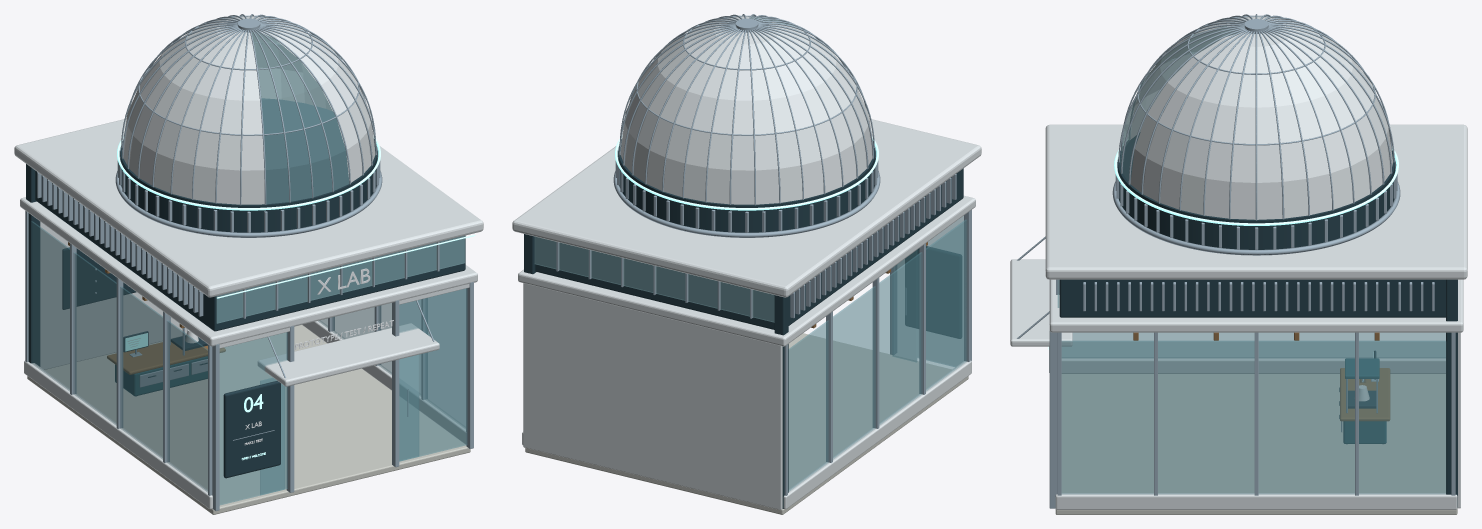
The model's file is lab-refined.glb.
3 renders of one model, left to right at view 1: azimuth 30°, elevation 25°; view 2: azimuth 150°, elevation 25°; view 3: azimuth 270°, elevation 25°, orthographic. The views are drawn at different scales.
Visible parts, largest first — view 1: Porcelain | satin ceramic, Glazing | low iron blue, Structure | midnight anodised, Aluminium | brushed edges, Floor | warm limestone, Glazing | fritted upper panels, Light | ice blue, Oak | reading furniture, Equipment | deep teal, Lettering | porcelain; view 2: Porcelain | satin ceramic, Glazing | low iron blue, Aluminium | brushed edges, Structure | midnight anodised, Floor | warm limestone, Glazing | fritted upper panels, Light | ice blue; view 3: Porcelain | satin ceramic, Glazing | low iron blue, Floor | warm limestone, Aluminium | brushed edges, Structure | midnight anodised, Glazing | fritted upper panels, Oak | reading furniture, Equipment | deep teal, Light | ice blue.
Boxes of the visible parts, left/top/right/bottom form: Porcelain | satin ceramic: left=14, top=16, right=483, bottom=509; Glazing | low iron blue: left=31, top=221, right=467, bottom=505; Structure | midnight anodised: left=26, top=98, right=465, bottom=478; Aluminium | brushed edges: left=25, top=14, right=473, bottom=510; Floor | warm limestone: left=27, top=325, right=470, bottom=514; Glazing | fritted upper panels: left=216, top=31, right=465, bottom=323; Light | ice blue: left=117, top=135, right=475, bottom=460; Oak | reading furniture: left=68, top=242, right=225, bottom=374; Equipment | deep teal: left=115, top=356, right=207, bottom=396; Lettering | porcelain: left=128, top=268, right=393, bottom=445; Porcelain | satin ceramic: left=512, top=16, right=981, bottom=509; Glazing | low iron blue: left=788, top=216, right=967, bottom=491; Aluminium | brushed edges: left=556, top=14, right=971, bottom=495; Structure | midnight anodised: left=524, top=139, right=963, bottom=508; Floor | warm limestone: left=525, top=333, right=968, bottom=514; Glazing | fritted upper panels: left=534, top=16, right=795, bottom=322; Light | ice blue: left=615, top=135, right=878, bottom=210; Porcelain | satin ceramic: left=1010, top=16, right=1467, bottom=509; Glazing | low iron blue: left=1061, top=332, right=1446, bottom=494; Floor | warm limestone: left=1055, top=374, right=1457, bottom=514; Aluminium | brushed edges: left=1017, top=14, right=1455, bottom=508; Structure | midnight anodised: left=1049, top=132, right=1457, bottom=507; Glazing | fritted upper panels: left=1057, top=26, right=1238, bottom=307; Oak | reading furniture: left=1133, top=332, right=1390, bottom=421; Equipment | deep teal: left=1343, top=358, right=1386, bottom=443; Light | ice blue: left=1048, top=139, right=1398, bottom=349.
Size of the model in its own units: 8.55 by 11.62 by 11.38.
